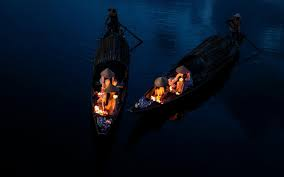boat: (132, 12, 243, 118), (90, 8, 131, 138)
